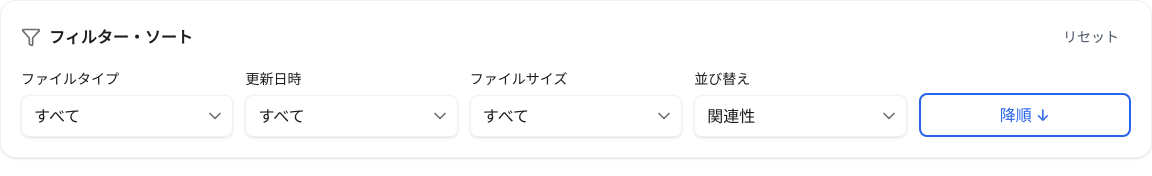
Test: FilterPanel › ソート順変更テスト › ソート順ボタンを2回クリックすると降順に戻ること
Click the button "降順 ↓".
click(1025, 115)  # box [919,93,1131,137]
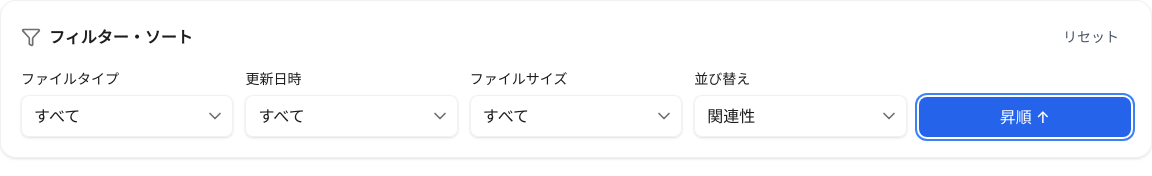
Click the button "昇順 ↑".
click(1025, 117)  # box [919,97,1131,137]
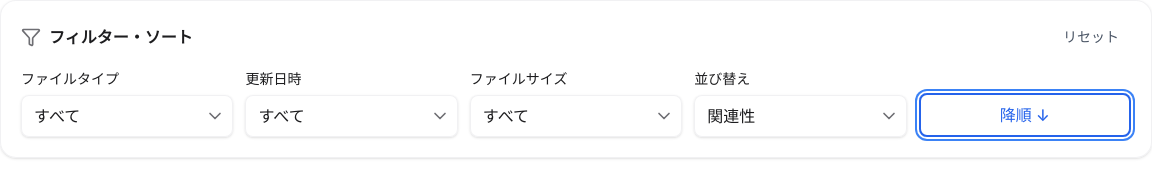
Now the button "降順 ↓" is shown, box [919,93,1131,137]
